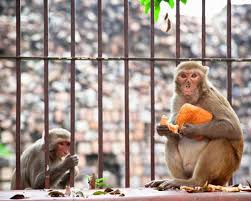monkey: (149, 34, 242, 197), (21, 107, 96, 201)
